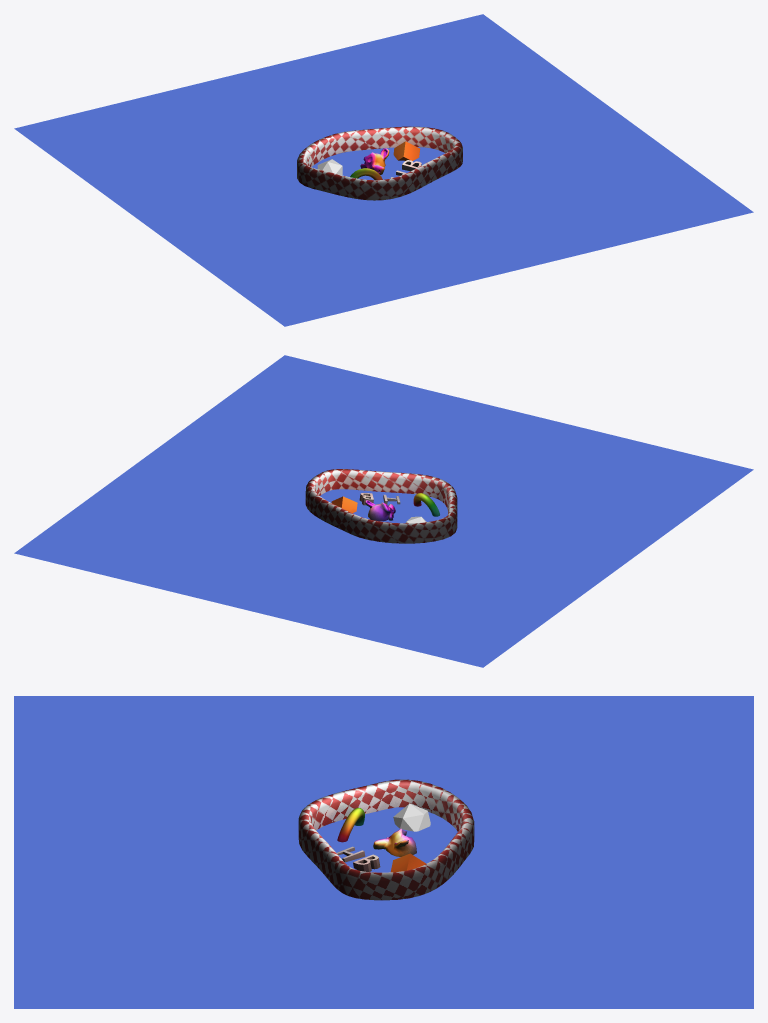
The model's file is testarena.glb.
3 views of the same model, one above another, from view 1: azimuth 30°, elevation 25°; view 2: azimuth 150°, elevation 25°; view 3: azimuth 270°, elevation 25° (orthographic). The views are drawn at different scales.
Parts seen in each view (by area): view 1: Plane, BezierCircle; view 2: Plane, BezierCircle; view 3: Plane, BezierCircle, Icosphere, Suzanne, Text.
Part boxes in pixels (bbox=[...]): Plane: bbox=[14, 14, 753, 326]; BezierCircle: bbox=[297, 126, 462, 200]; Plane: bbox=[14, 355, 753, 667]; BezierCircle: bbox=[305, 469, 457, 543]; Plane: bbox=[14, 696, 753, 1008]; BezierCircle: bbox=[298, 779, 474, 900]; Icosphere: bbox=[393, 803, 430, 831]; Suzanne: bbox=[373, 828, 416, 856]; Text: bbox=[337, 846, 380, 871].
Size of what is drawn, in the model's own units: 35.55 by 2.69 by 35.55.
7 materials, 5 textured.
